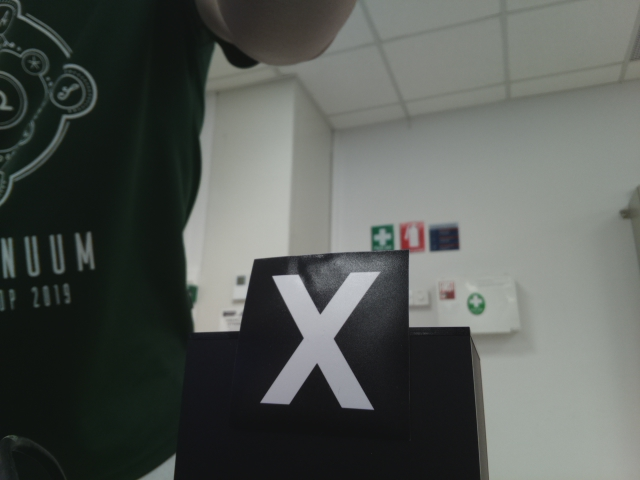x: (265, 264, 378, 411)
